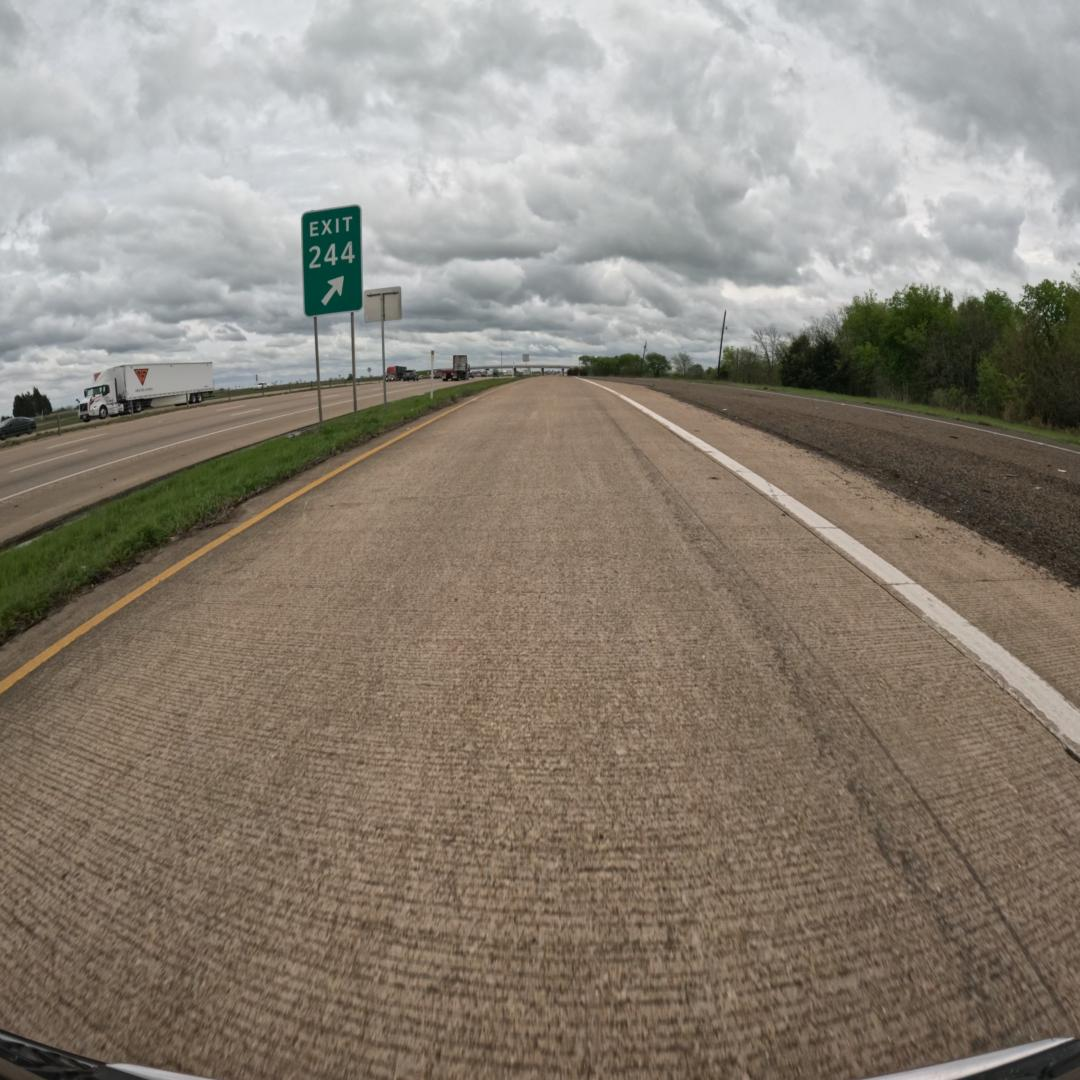lane0: (0, 381, 1080, 1076)
